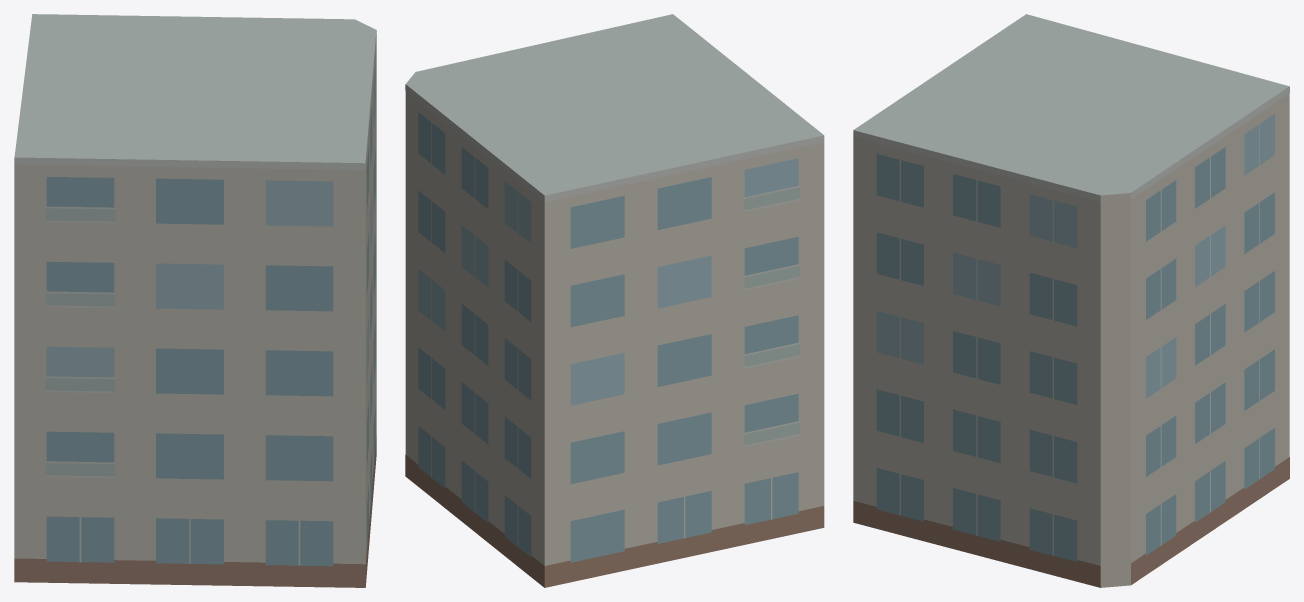
The model's file is survey-upis-32746413.glb.
The picture shows the model from 3 angles, left to right: view 1: azimuth 30°, elevation 25°; view 2: azimuth 150°, elevation 25°; view 3: azimuth 270°, elevation 25°; orthographic projection. The views are drawn at different scales.
Parts seen in each view (by area): view 1: survey-upis-32746413.tmp; view 2: survey-upis-32746413.tmp; view 3: survey-upis-32746413.tmp.
Boxes of the visible parts, x1,y1,x2,y2 form: survey-upis-32746413.tmp: [14, 14, 376, 587]; survey-upis-32746413.tmp: [405, 14, 824, 587]; survey-upis-32746413.tmp: [853, 14, 1289, 587].
Bounding box in the file's own units: 14.38 × 14.5 × 14.62.
